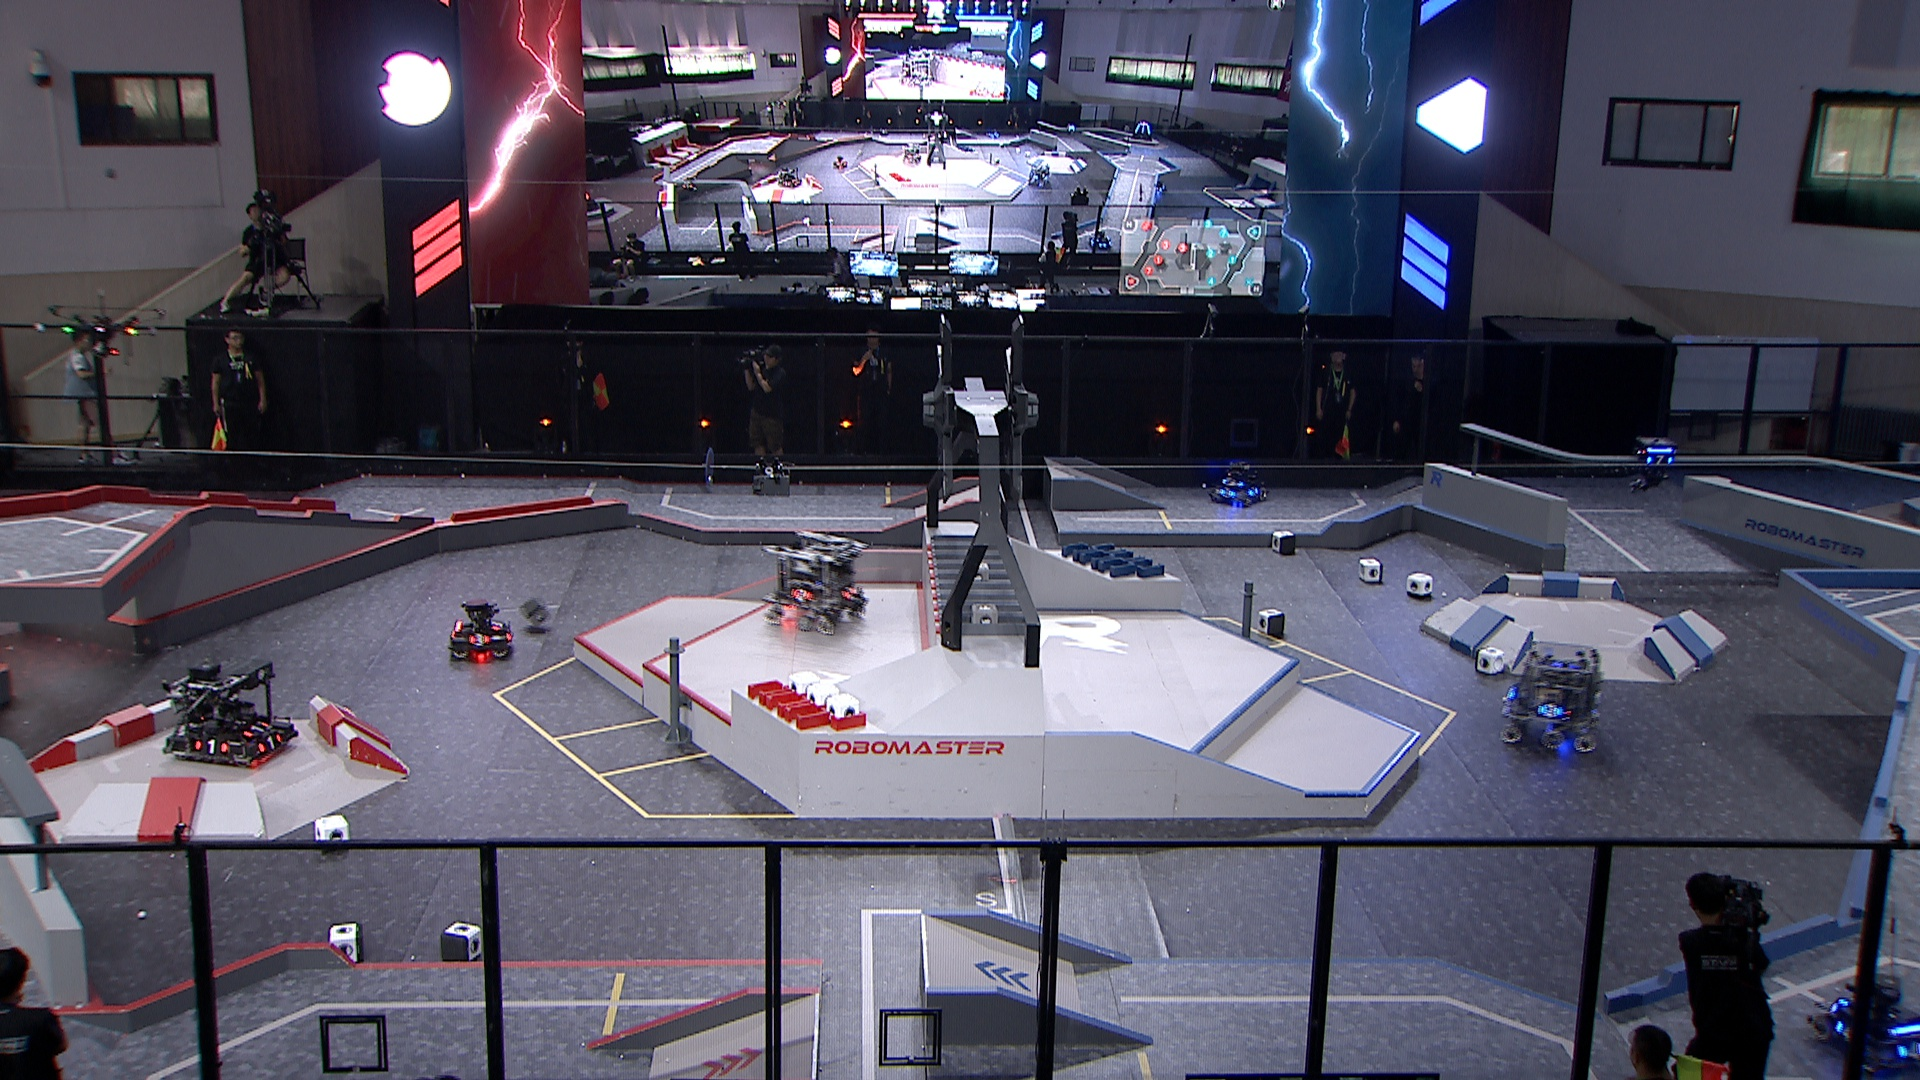armor: (193, 737, 229, 754), (257, 731, 282, 756), (1892, 1039, 1920, 1060), (1534, 700, 1565, 719), (243, 719, 268, 740), (1644, 452, 1675, 467), (465, 632, 493, 647), (789, 588, 811, 603), (839, 584, 858, 600), (1505, 684, 1519, 703), (487, 618, 505, 633), (1220, 477, 1245, 488), (1218, 487, 1238, 500), (1247, 485, 1261, 498)
car: (164, 655, 299, 765), (1498, 637, 1604, 757), (1808, 973, 1920, 1077), (760, 529, 868, 636), (446, 597, 512, 659), (1204, 465, 1269, 508)
ignore: (905, 49, 936, 82), (1027, 160, 1054, 189), (775, 164, 802, 190), (1087, 228, 1114, 251), (1130, 120, 1154, 142), (899, 140, 920, 164), (832, 156, 851, 171)
watcher: (1626, 434, 1677, 493)
